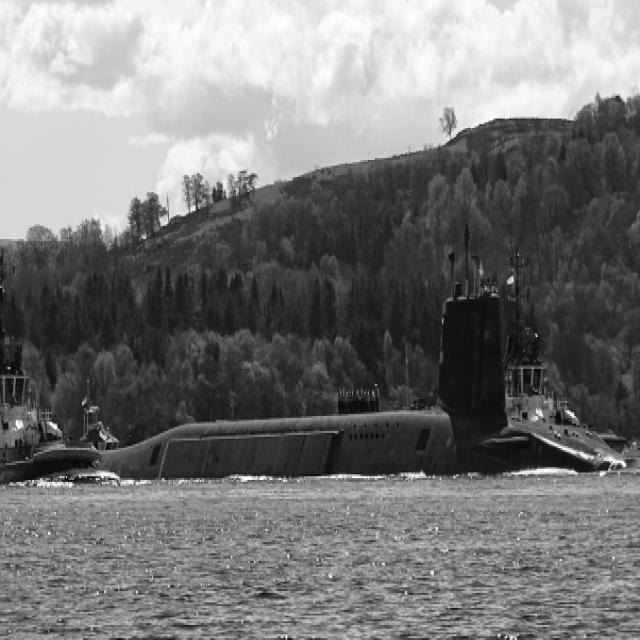submarine: (68, 297, 588, 479)
